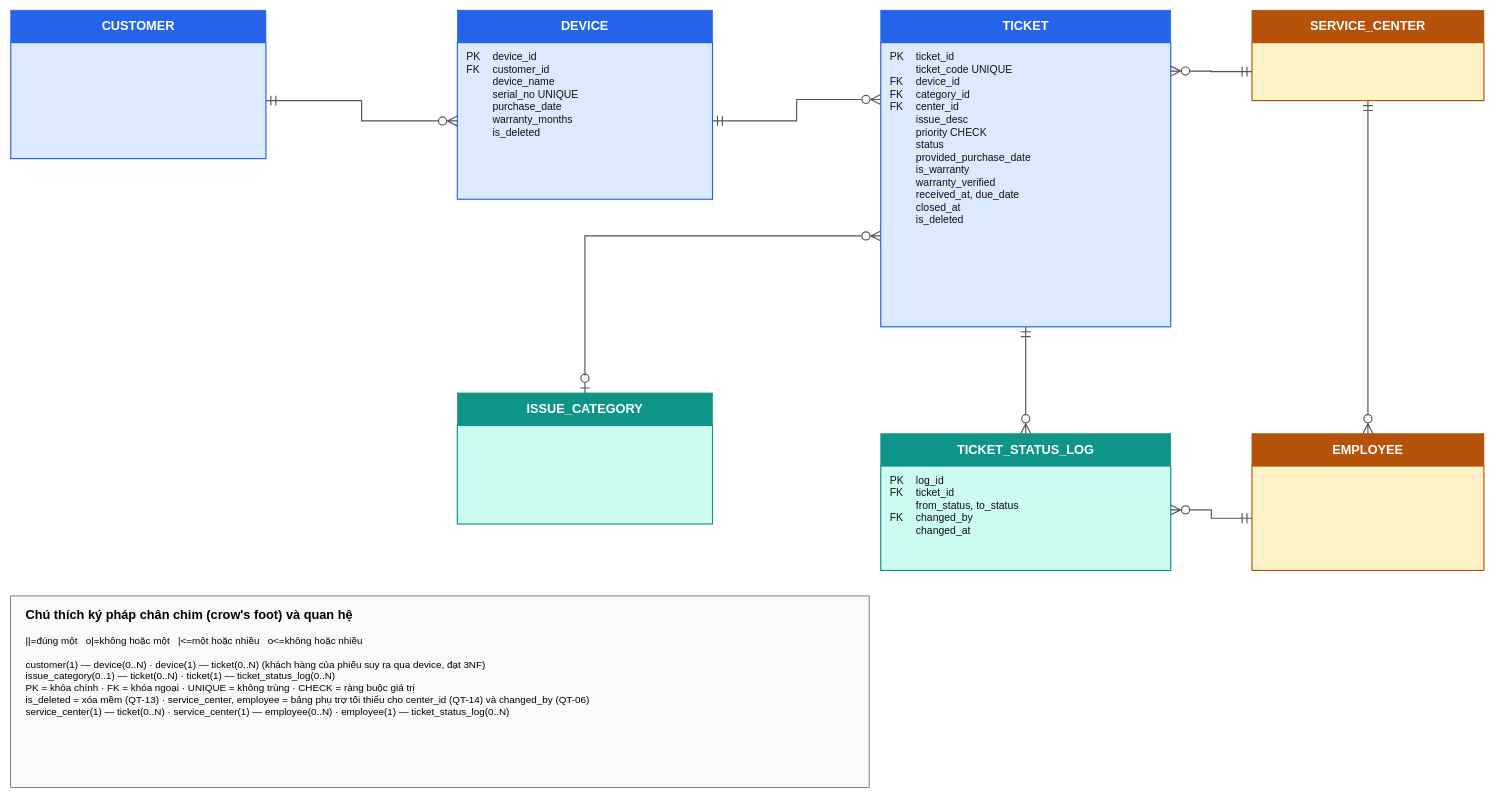
The diagram is 1494 pixels wide and 798 high, and some of its shapes have lost their labels. Each missing label, with the box of its shape:
PK category_id category_name UNIQUE default_priority is_active: (456, 425, 713, 524)
PK center_id center_name UNIQUE: (1251, 42, 1484, 101)
PK customer_id full_name phone UNIQUE email is_deleted: (10, 42, 266, 159)
PK employee_id full_name role CHECK FK center_id: (1251, 465, 1484, 571)
